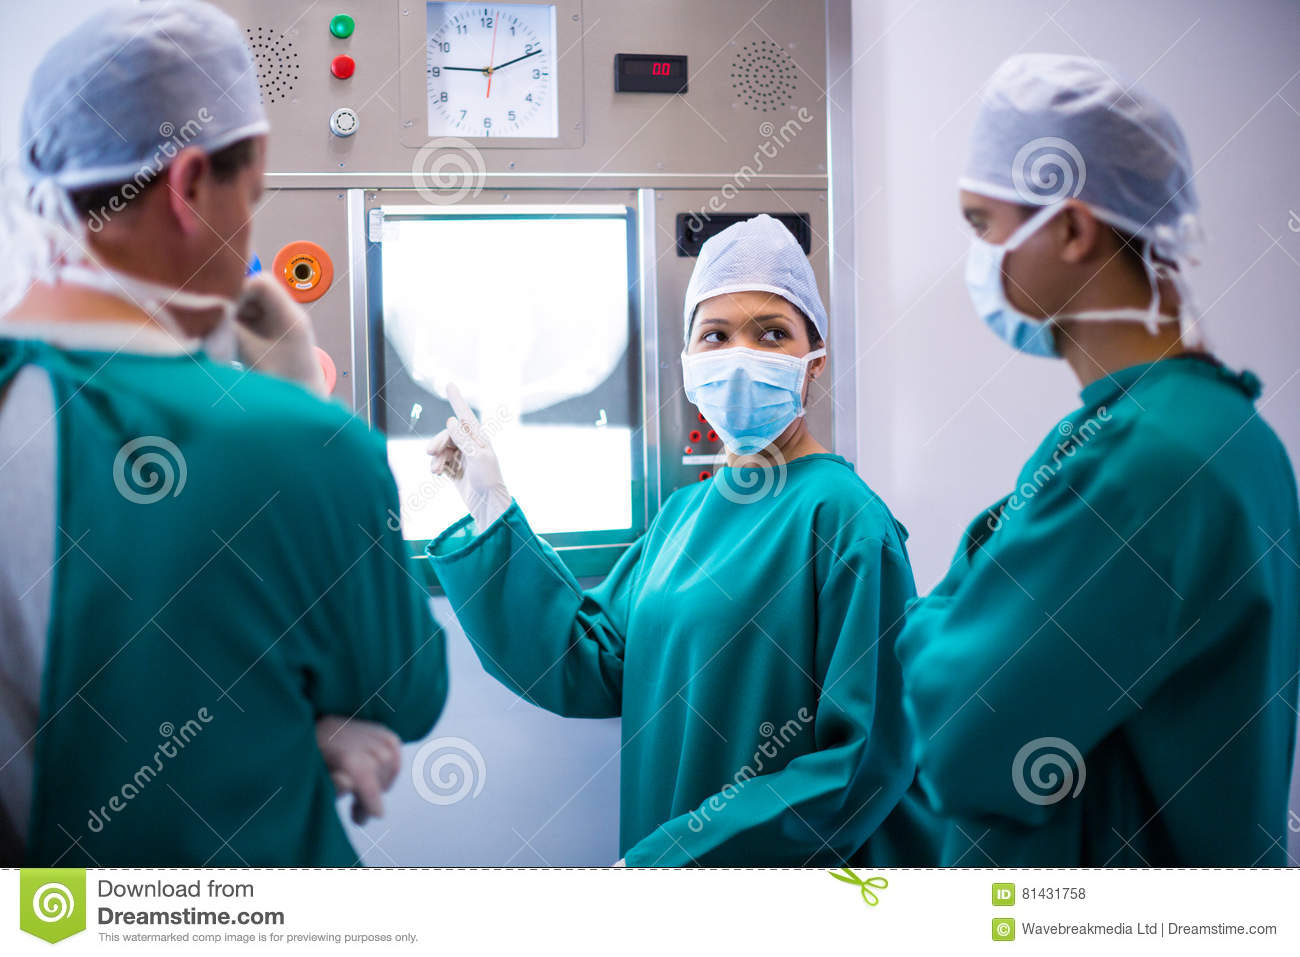mask: (682, 355, 800, 442)
